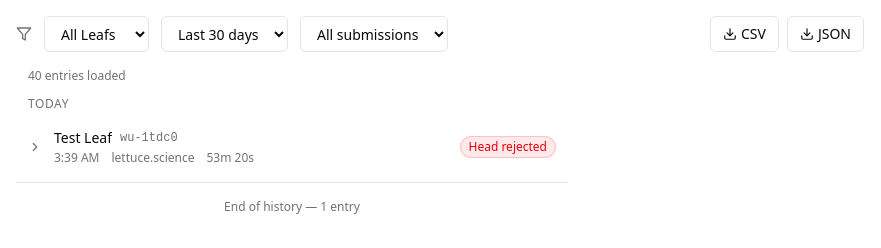
HistoryPage › shows the matching count separately when a client-side filter is active
The width and height of the screenshot is (881, 248).
Expected: the text with test id "history-count" reads "40 entries loaded", [28,67,126,84]
Expected: the text with test id "history-end" reads "End of history — 1 entry", [16,182,568,231]
Select "Head rejected" in the dropdown named "Head accepted" at (374, 34), box [300,16,448,52]
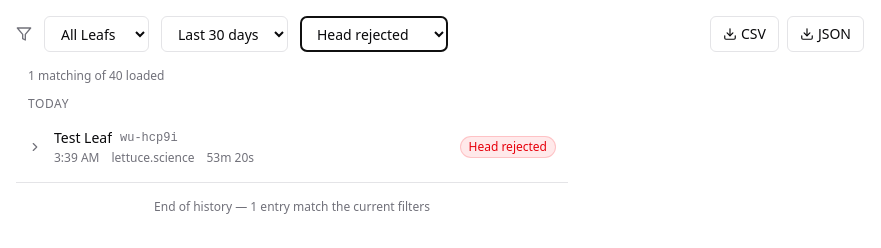
Expected: the text with test id "history-count" reads "1 matching of 40 loaded", [28,67,164,84]
Expected: the text with test id "history-end" reads "End of history — 1 entry match the current filters", [16,182,568,231]
